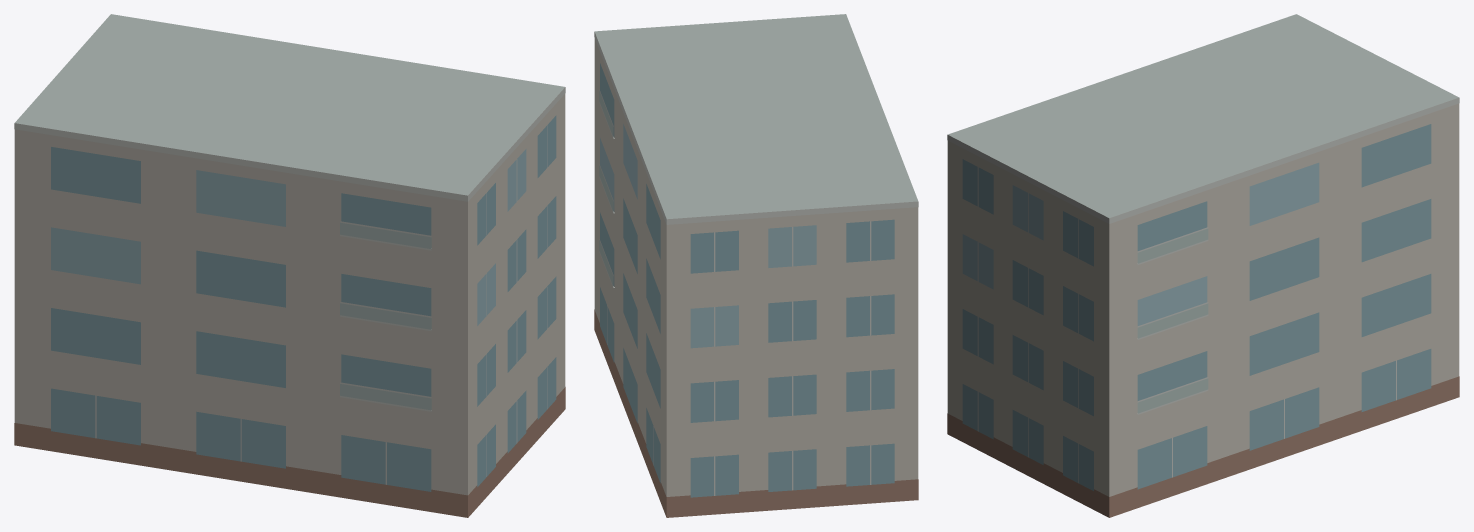
Rendered from survey-upis-32617528.glb.
3 views of the same model, side by side, from view 1: azimuth 30°, elevation 25°; view 2: azimuth 150°, elevation 25°; view 3: azimuth 270°, elevation 25° (orthographic). The views are drawn at different scales.
Parts seen in each view (by area): view 1: survey-upis-32617528.tmp; view 2: survey-upis-32617528.tmp; view 3: survey-upis-32617528.tmp.
Boxes of the visible parts, box(x1,y1,x2,y2) form: survey-upis-32617528.tmp: box(14, 14, 565, 517); survey-upis-32617528.tmp: box(594, 14, 918, 517); survey-upis-32617528.tmp: box(947, 14, 1459, 517).
Bounding box in the file's own units: 18.61 × 12.72 × 19.71.
